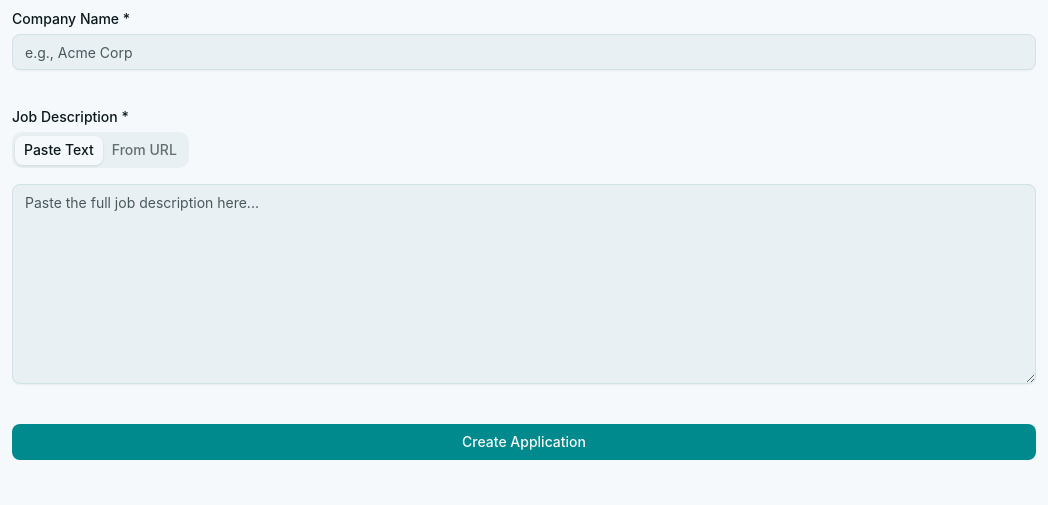
JobInputForm › validation › shows validation error for short job description
Type "Acme" into the field labelled "Company Name *". click: x=524, y=52
box: [12,34,1036,70]
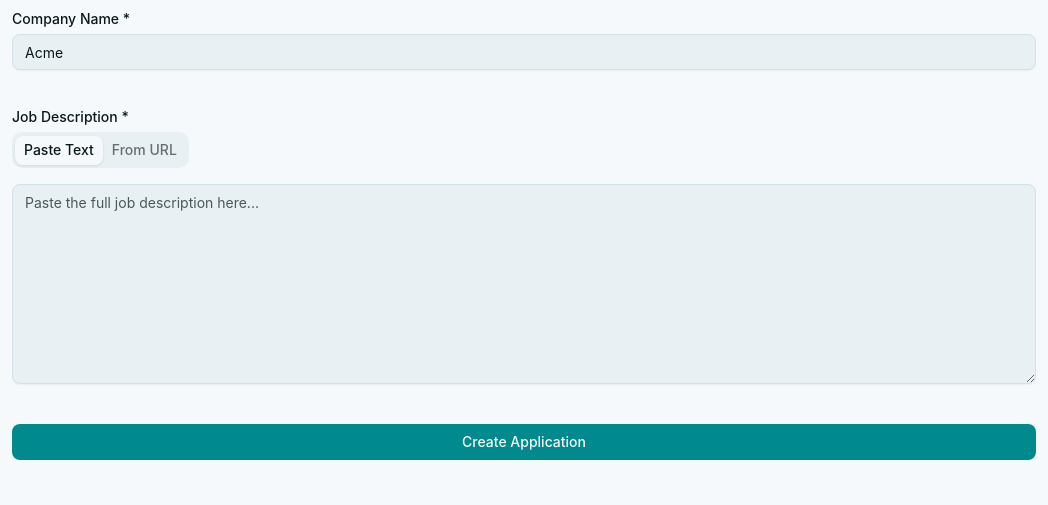
Type "short" into the text box with placeholder "Paste the full job description here...". click: x=524, y=284
box: [12,184,1036,384]
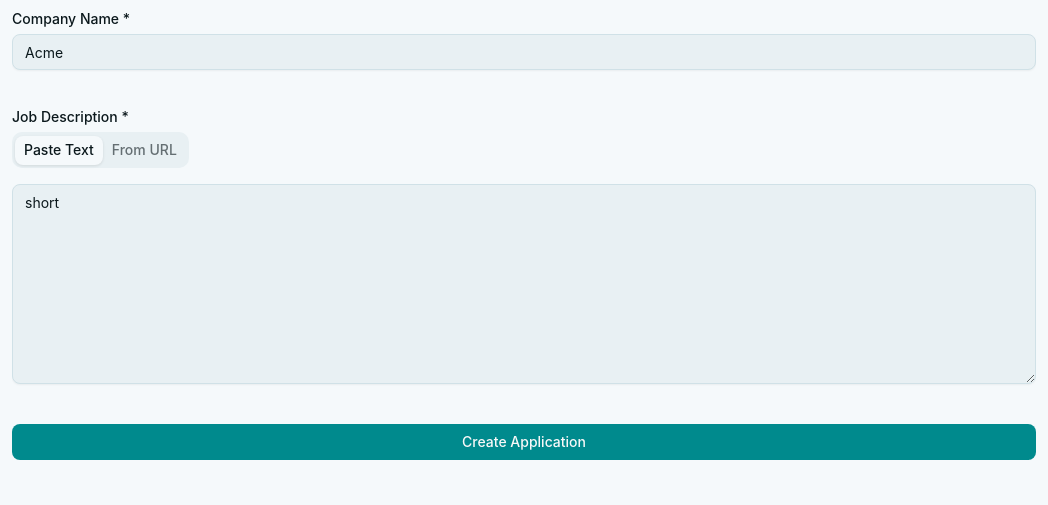
Click the button "Create Application". click: x=524, y=442
box: [12,424,1036,460]
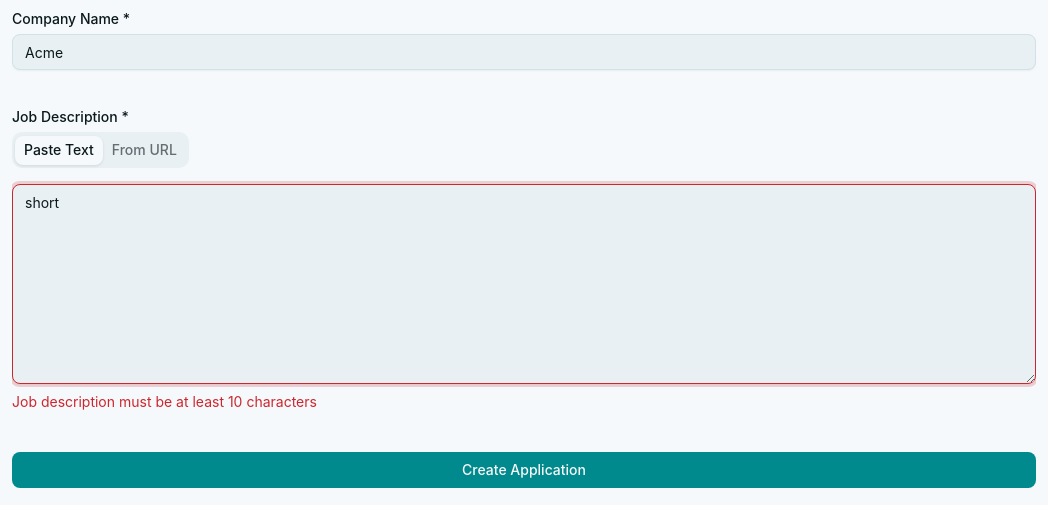
Now the text "Job description must be at least 10 characters" is shown, box [12,393,317,410]
